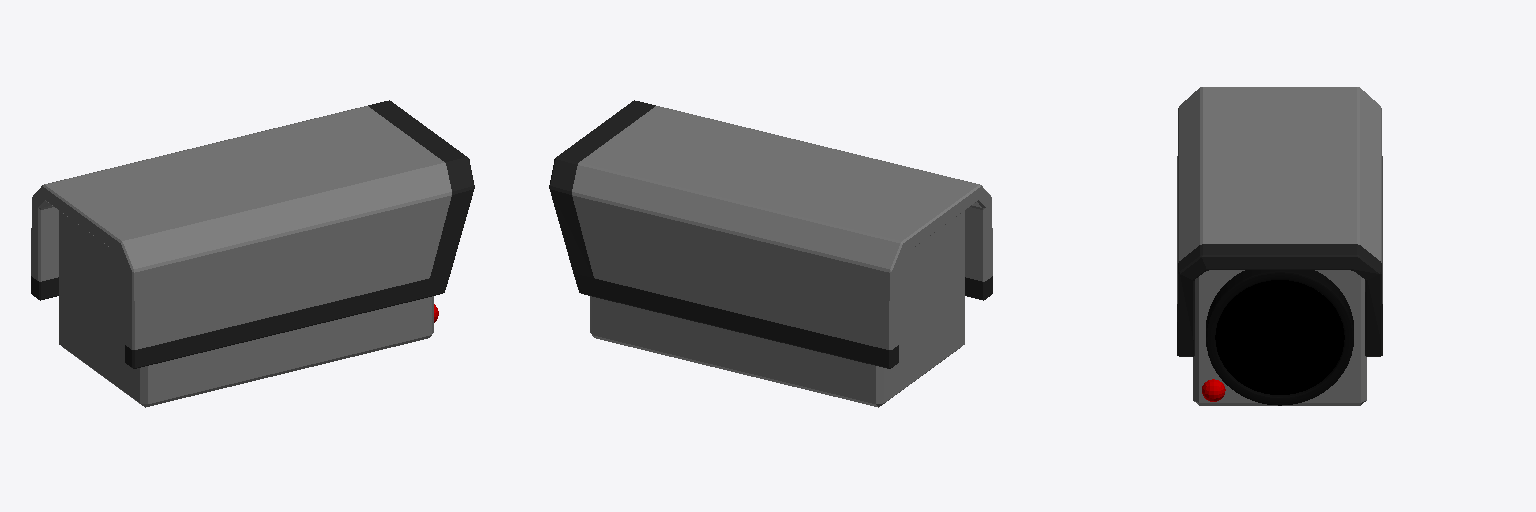
Rendered from surveilanceCamera.obj.
3 views of the same model, side by side, from view 1: azimuth 30°, elevation 25°; view 2: azimuth 150°, elevation 25°; view 3: azimuth 270°, elevation 25° (orthographic).
Visible parts, largest first — view 1: shell_geo_Cube.001, body_geo_Cube; view 2: shell_geo_Cube.001, body_geo_Cube; view 3: shell_geo_Cube.001, lensGlass_geo_Cylinder.001, body_geo_Cube, lens_geo_Cylinder.
Boxes of the visible parts, <box> form: shell_geo_Cube.001: <box>31,100,474,368</box>; body_geo_Cube: <box>59,211,433,407</box>; shell_geo_Cube.001: <box>549,100,992,368</box>; body_geo_Cube: <box>590,211,964,407</box>; shell_geo_Cube.001: <box>1177,87,1382,356</box>; lensGlass_geo_Cylinder.001: <box>1215,280,1344,394</box>; body_geo_Cube: <box>1193,270,1366,405</box>; lens_geo_Cylinder: <box>1206,270,1353,405</box>.
Bounding box in the file's own units: 0.6695 × 0.313 × 0.342.